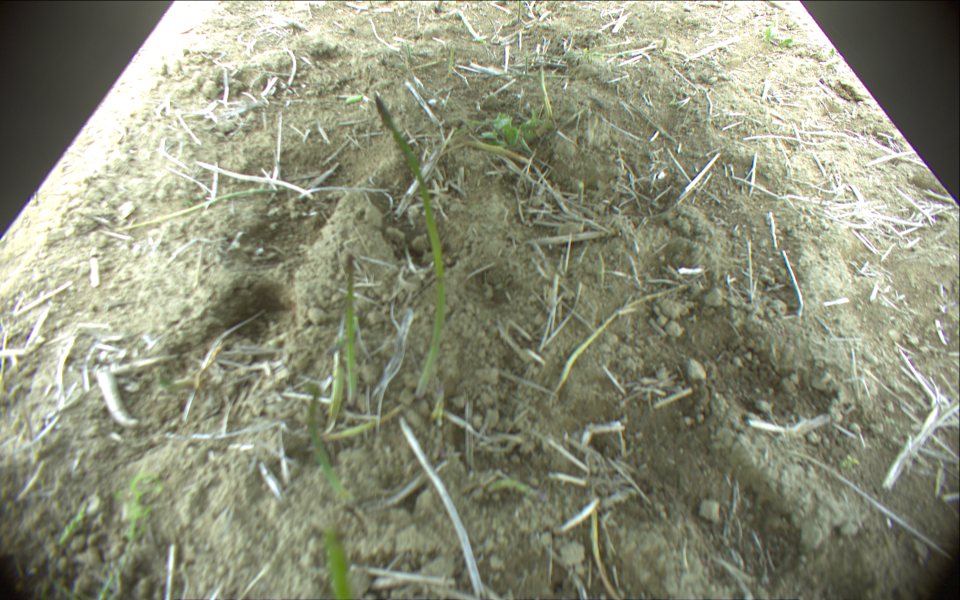aspa: (373, 89, 448, 400), (117, 186, 281, 233), (305, 390, 348, 509), (318, 345, 346, 432), (322, 527, 352, 600), (346, 254, 359, 411), (436, 1, 445, 13), (517, 1, 522, 21)
